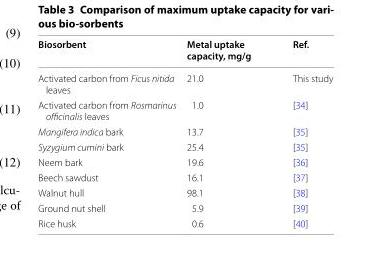table: (37, 37, 332, 228)
table column: (37, 37, 180, 228), (180, 37, 271, 228), (271, 37, 332, 228)
table column header: (37, 37, 332, 66)
table row: (37, 66, 332, 96), (37, 37, 332, 66), (37, 96, 332, 123), (37, 138, 332, 154), (37, 184, 332, 200), (37, 123, 332, 138), (37, 154, 332, 169), (37, 169, 332, 184), (37, 200, 332, 215), (37, 215, 332, 228)
